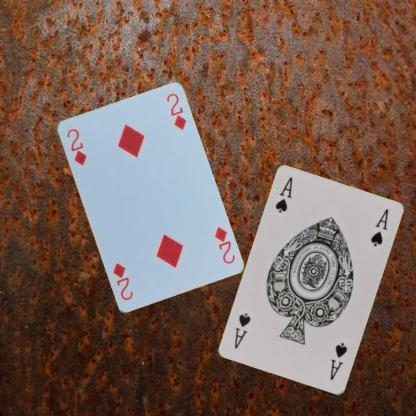2d: (63, 125, 88, 167), (211, 224, 236, 265)
As: (328, 340, 349, 382), (273, 174, 294, 214)
